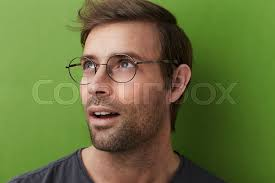Glasses: (60, 52, 169, 84)
